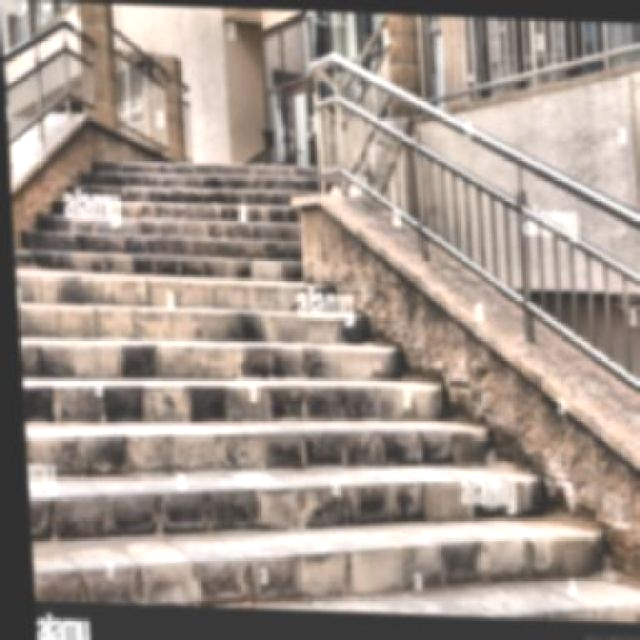stair: (5, 111, 569, 543)
